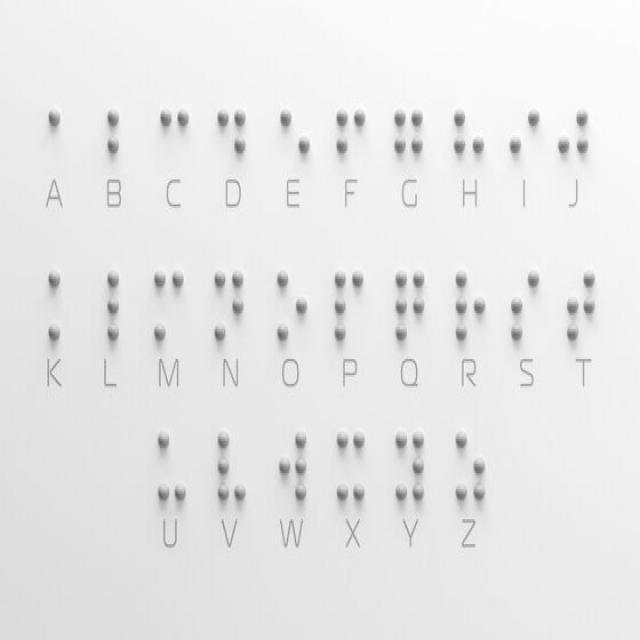braiile: (269, 419, 315, 514), (150, 422, 197, 514), (210, 420, 254, 512), (449, 419, 494, 508), (329, 422, 373, 512), (504, 256, 544, 352), (450, 262, 493, 351), (560, 260, 602, 350), (148, 259, 189, 351), (41, 259, 84, 346), (270, 262, 312, 351), (210, 257, 250, 350), (100, 260, 142, 348), (390, 422, 430, 514), (391, 262, 432, 348), (329, 262, 369, 348)
